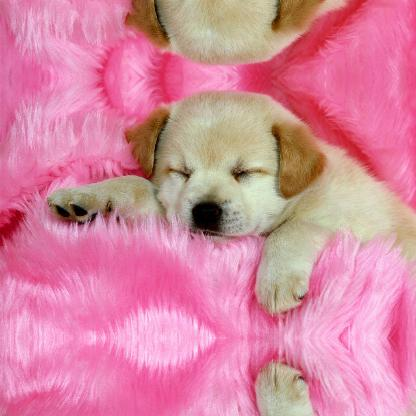Dog: (45, 90, 415, 314), (45, 0, 416, 67), (45, 362, 416, 415)
